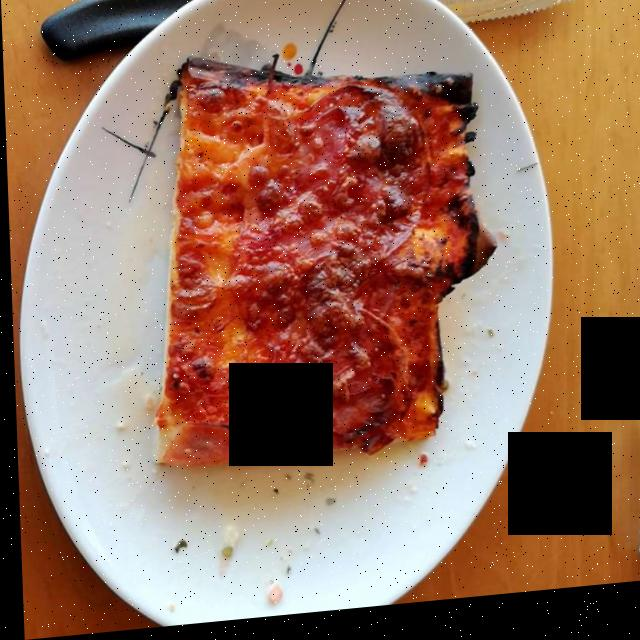pizza-with-ham-baked: (155, 75, 485, 469)
salami: (260, 101, 426, 446)
